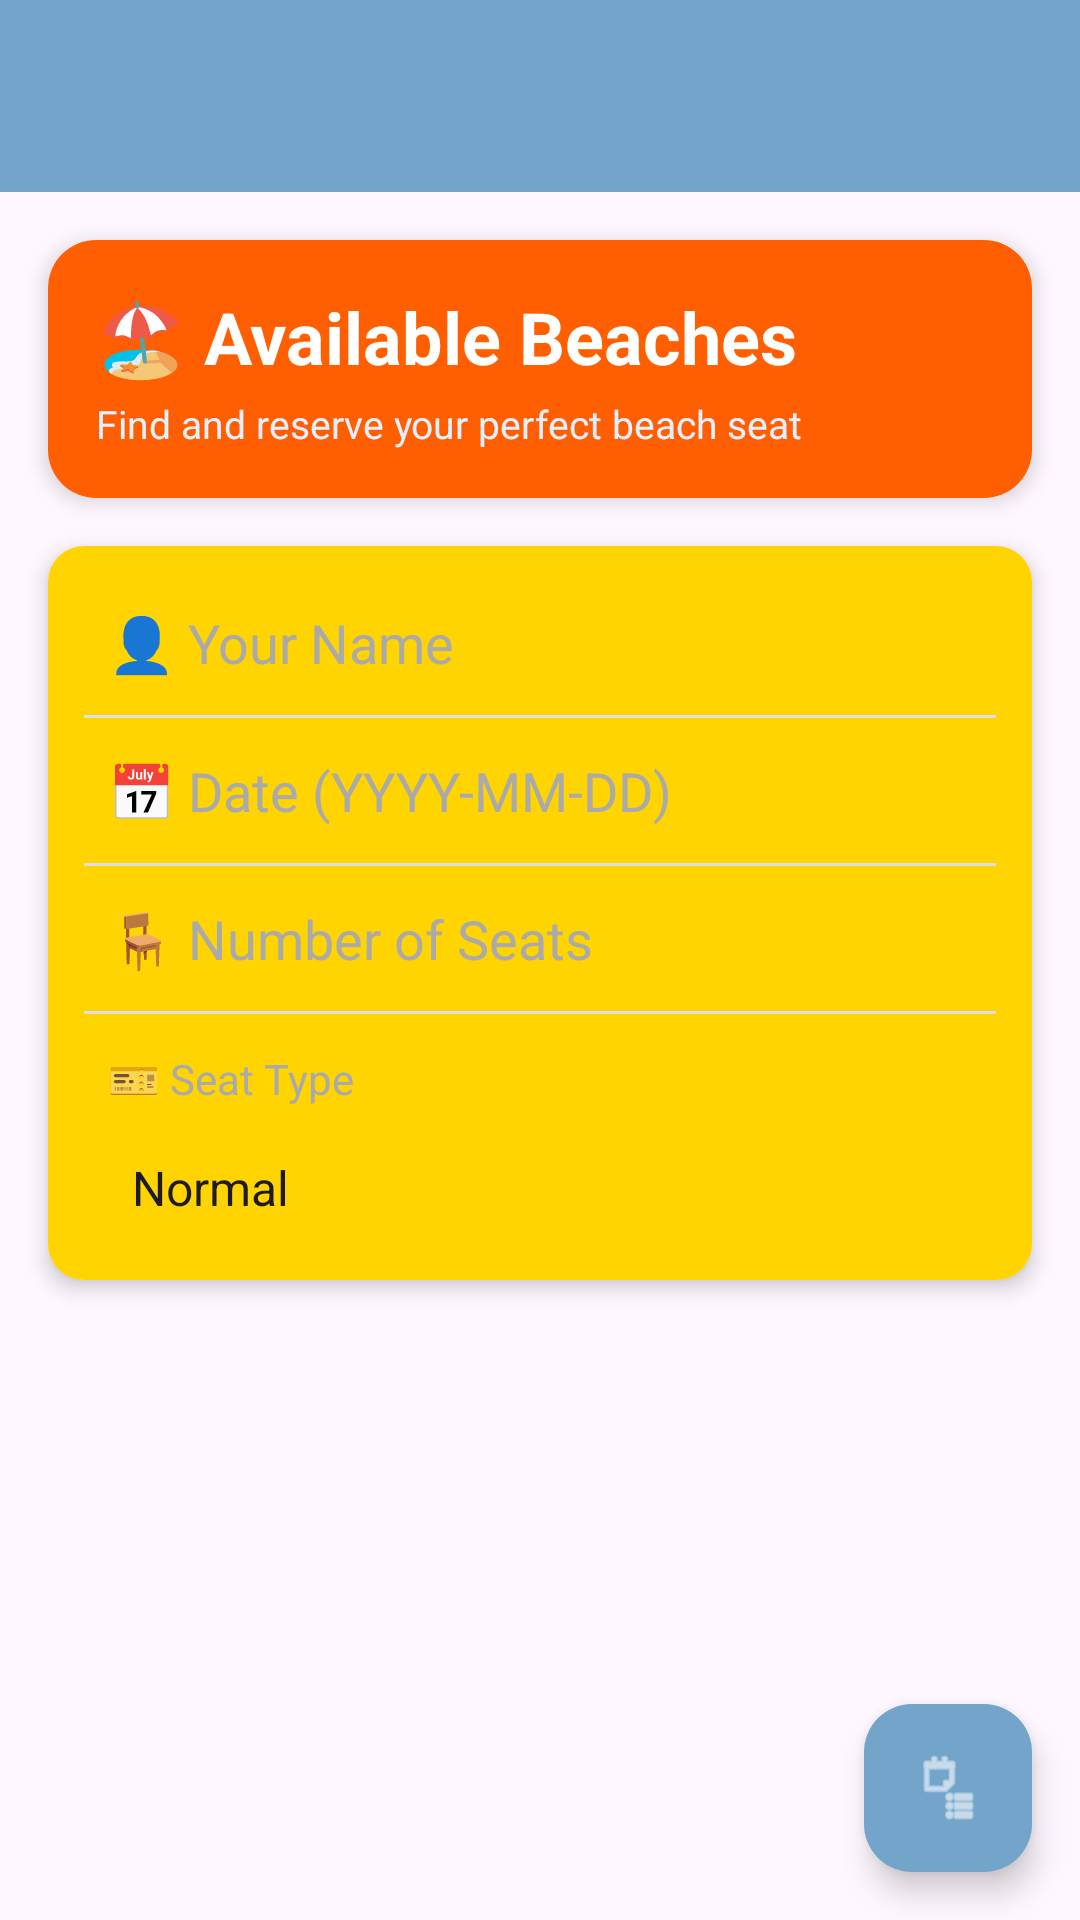

Locate icon controls on the screen. Image size 1080px×1920px, boxes as (x1, y1, x2, y2).
agenda: (864, 1704, 1032, 1872)
